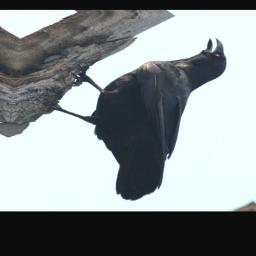Crow: (34, 30, 231, 204)
